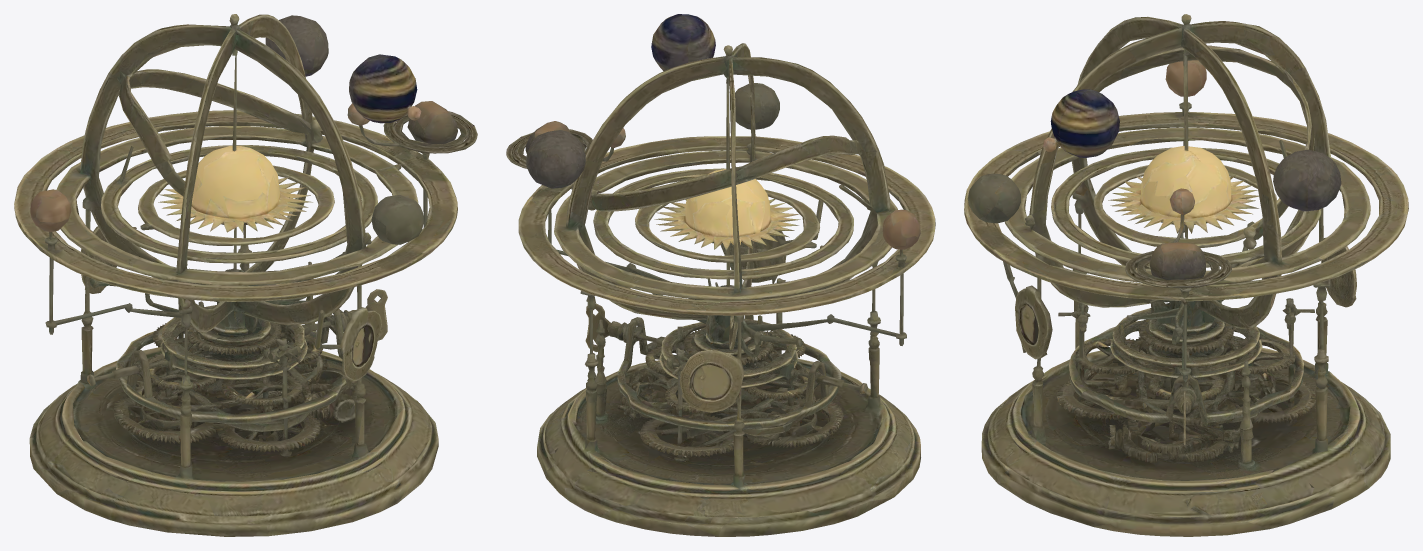
Rendered from orrery.glb.
3 views of the same model, side by side, from view 1: azimuth 30°, elevation 25°; view 2: azimuth 150°, elevation 25°; view 3: azimuth 270°, elevation 25° (orthographic). The views are drawn at different scales.
Visible parts, largest first — view 1: Mesh_0; view 2: Mesh_0; view 3: Mesh_0.
Boxes of the visible parts, bbox=[...] form: Mesh_0: bbox=[14, 14, 477, 536]; Mesh_0: bbox=[506, 14, 935, 536]; Mesh_0: bbox=[964, 14, 1408, 536].
Bounding box in the file's own units: 1.89 × 1.83 × 1.69.
1 material, 1 textured.
